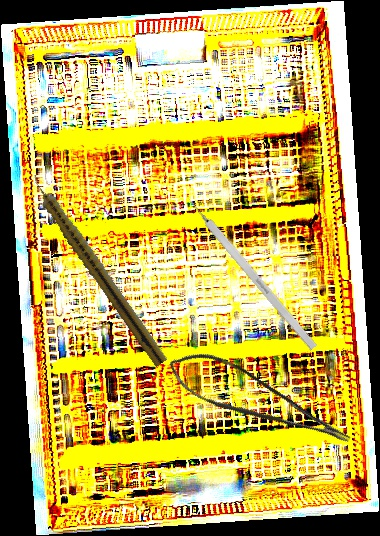Handpiece: (25, 170, 172, 368)
Hook Surgical: (180, 190, 318, 351)
Micro Scissor: (160, 333, 355, 476)
